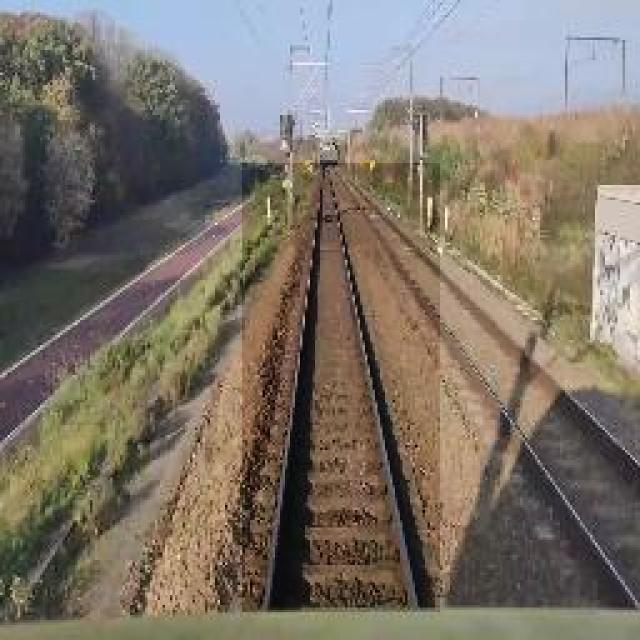rail: (244, 164, 441, 613)
